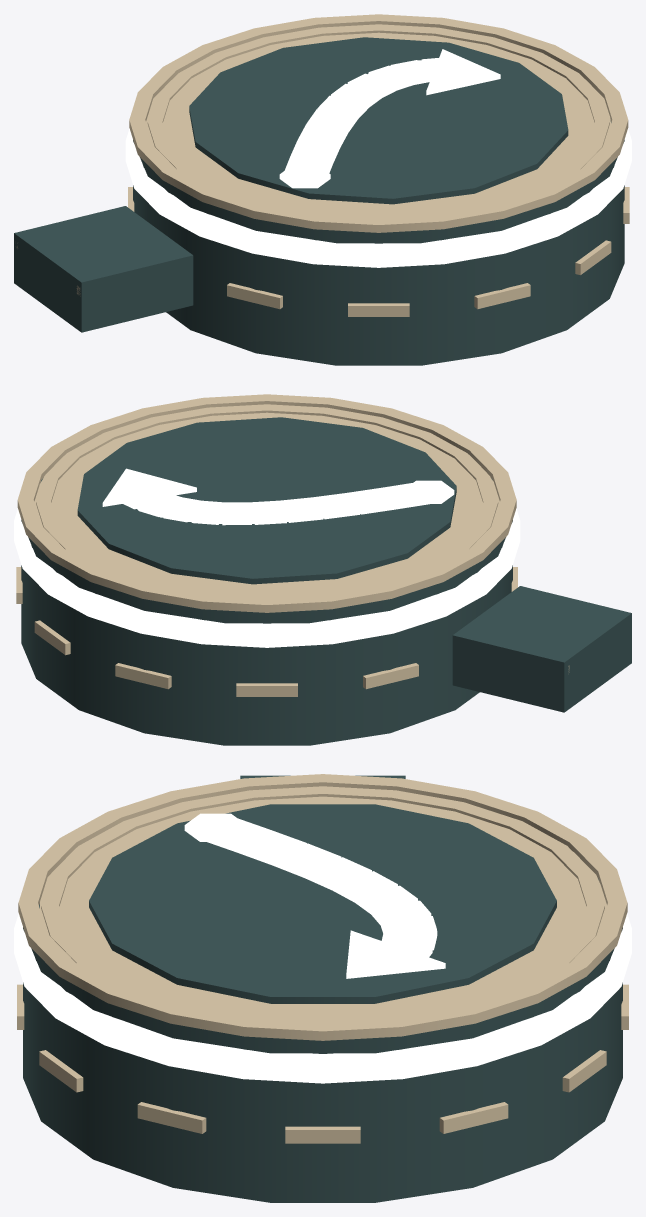
Rendered from Relay_Button_Launcher_v3_lab2.glb.
The picture shows the model from 3 angles, top to bottom: view 1: azimuth 30°, elevation 25°; view 2: azimuth 150°, elevation 25°; view 3: azimuth 270°, elevation 25°; orthographic projection. The views are drawn at different scales.
Visible parts, largest first — view 1: Relay_Button_Launcher_v3, Glyph, Strut; view 2: Relay_Button_Launcher_v3, Glyph, Strut; view 3: Relay_Button_Launcher_v3, Glyph.
Part boxes in pixels (box(x1,y1,x2,y2)): Relay_Button_Launcher_v3: box(125, 14, 631, 365); Glyph: box(189, 37, 568, 204); Strut: box(14, 206, 193, 332); Relay_Button_Launcher_v3: box(14, 394, 520, 745); Glyph: box(77, 417, 456, 584); Strut: box(452, 586, 631, 712); Relay_Button_Launcher_v3: box(14, 774, 631, 1202); Glyph: box(89, 804, 556, 1003).
Bounding box in the file's own units: 5.17 × 2.05 × 4.12.
